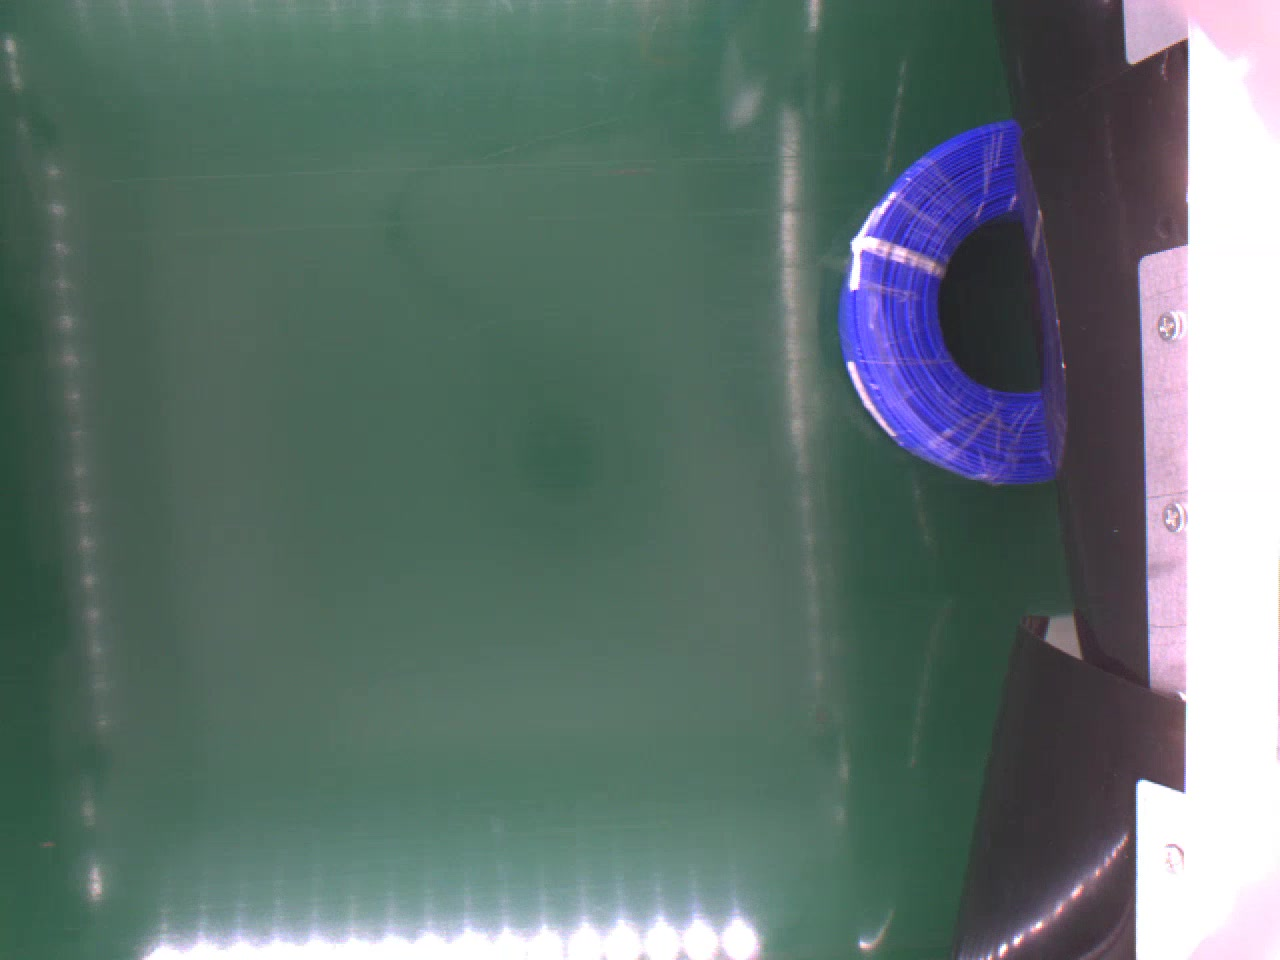blue: (839, 119, 1054, 483)
